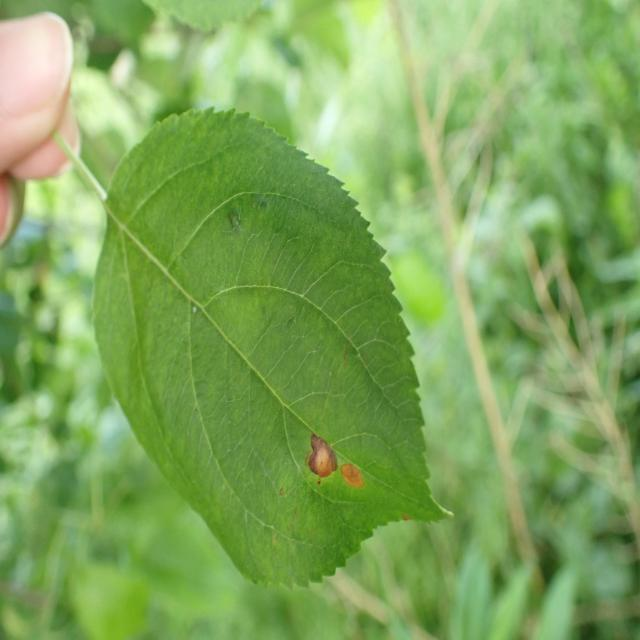frog-eye-leaf-spot: (90, 106, 452, 593)
